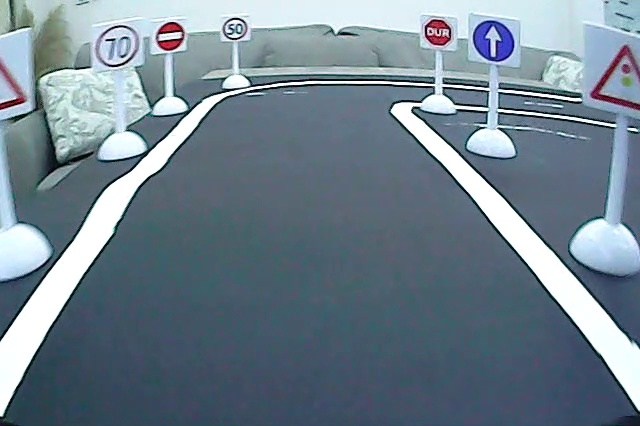do not enter: (155, 20, 186, 53)
red light: (588, 36, 640, 116)
speed limit 50: (223, 16, 249, 43)
speed limit 70: (94, 22, 142, 70)
stop sign: (421, 16, 456, 50)
